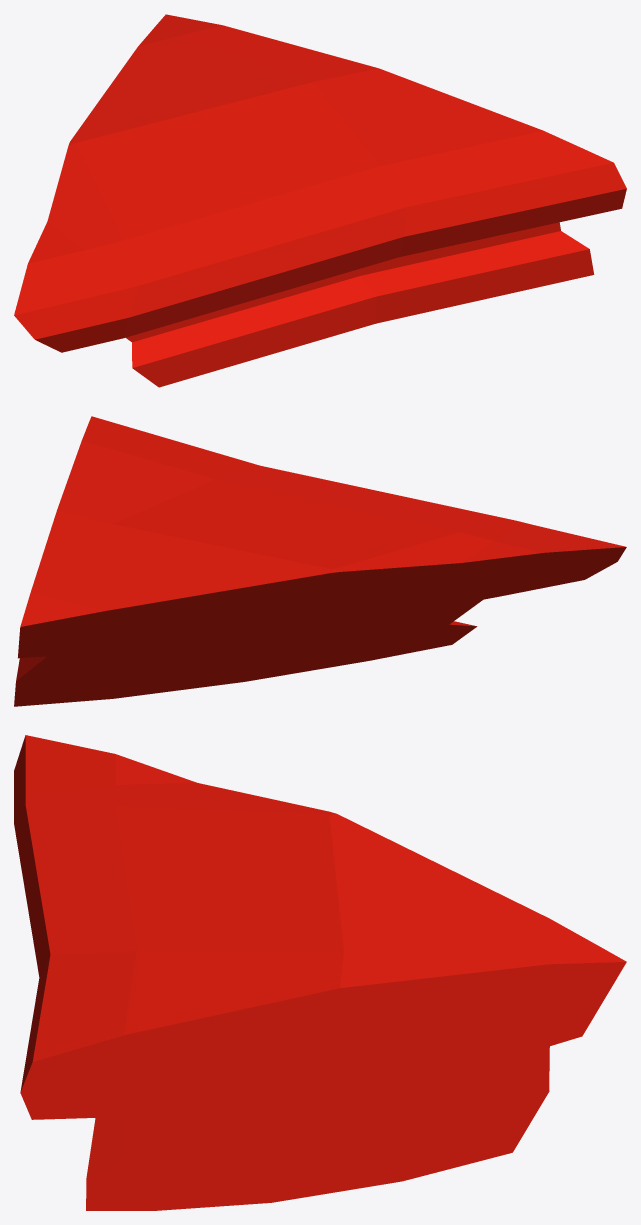
File: SM_Fence1m_Half-Broken_01.025.fbx
The picture shows the model from 3 angles, top to bottom: view 1: azimuth 30°, elevation 25°; view 2: azimuth 150°, elevation 25°; view 3: azimuth 270°, elevation 25°; orthographic projection. The views are drawn at different scales.
Parts seen in each view (by area): view 1: SM_Fence1m_Half-Broken_01.025; view 2: SM_Fence1m_Half-Broken_01.025; view 3: SM_Fence1m_Half-Broken_01.025.
Part boxes in pixels (bbox=[...]): SM_Fence1m_Half-Broken_01.025: bbox=[14, 14, 626, 387]; SM_Fence1m_Half-Broken_01.025: bbox=[14, 416, 626, 706]; SM_Fence1m_Half-Broken_01.025: bbox=[14, 735, 626, 1210].
Size of the model in its own units: 0.5331 by 0.1461 by 0.4123.
